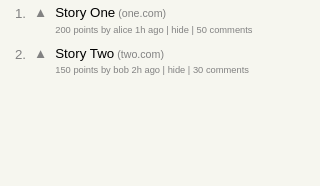
StoryList › caches details and reuses on re-expand
Note: First click
Click the link "50 comments".
click(202, 30)  # box [196,25,252,35]
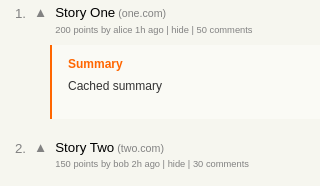
Now the text "Cached summary" is shown, box [68,79,162,93]
Click the link "50 comments".
click(202, 30)  # box [196,25,252,35]
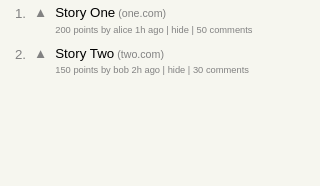
Note: Re-expand - should use cache
Click the link "50 comments".
click(202, 30)  # box [196,25,252,35]
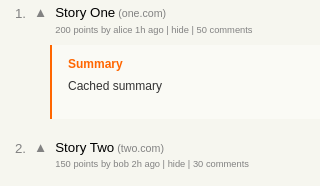
Now the text "Cached summary" is shown, box [68,79,162,93]
